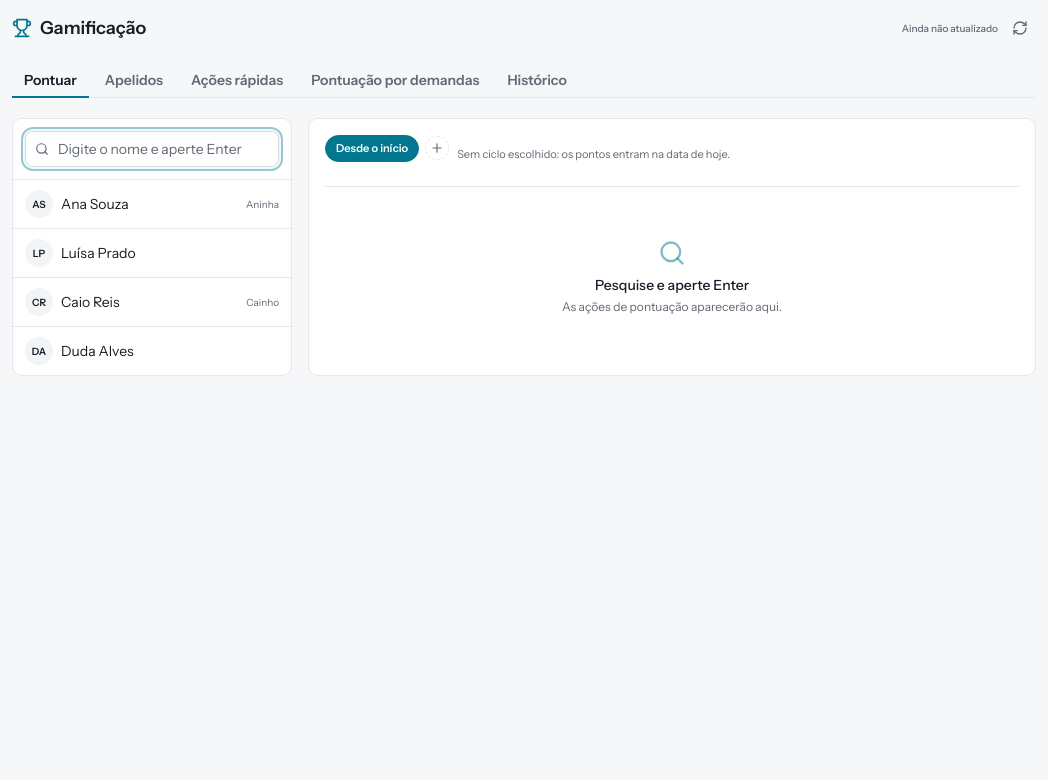
Test: aba de apelidos › clicar no nome abre o editor daquela pessoa
This screenshot has width=1048, height=780.
Click the button "Apelidos" at {"x": 134, "y": 81}, box x1=93 y1=64 x2=175 y2=98
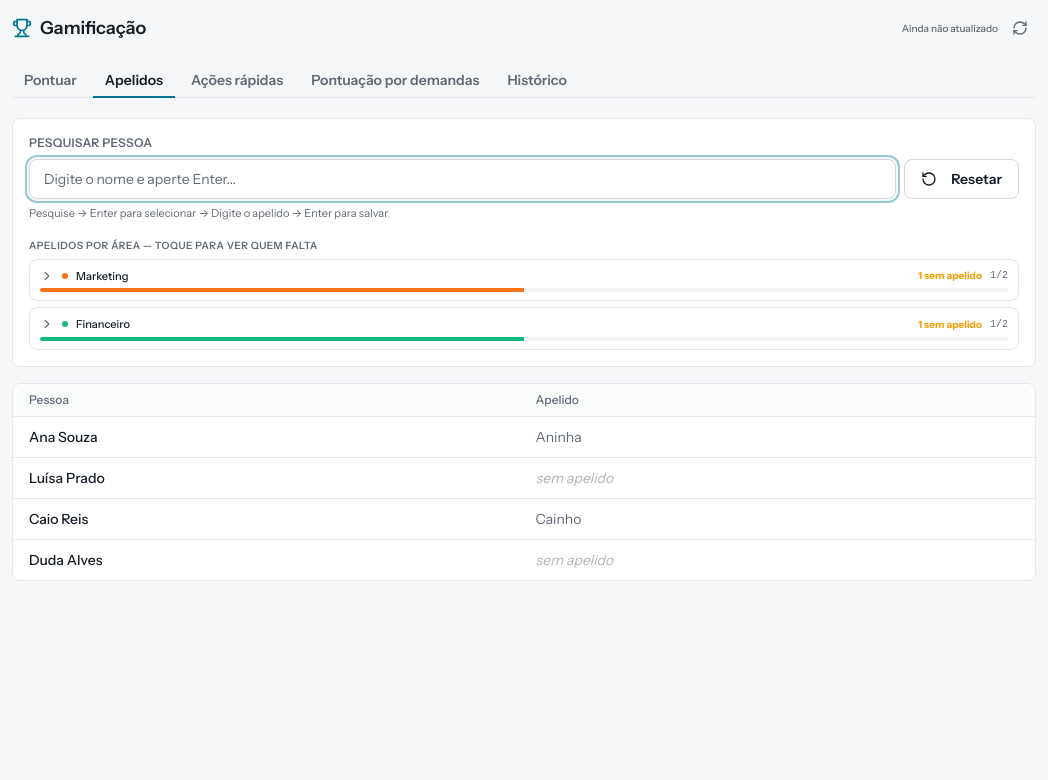
Click the button "Marketing 1 sem apelido 1/2" at {"x": 102, "y": 276}, box x1=30 y1=260 x2=1018 y2=300
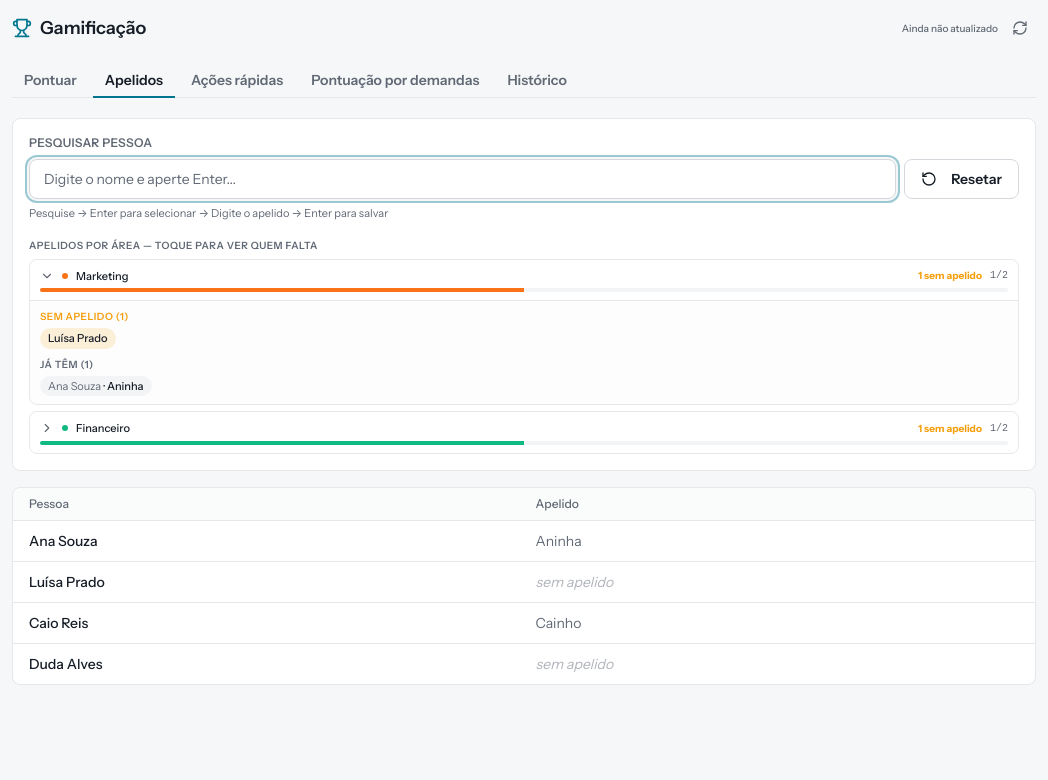
Click the button "Luísa Prado" at {"x": 78, "y": 338}, box x1=40 y1=328 x2=116 y2=348
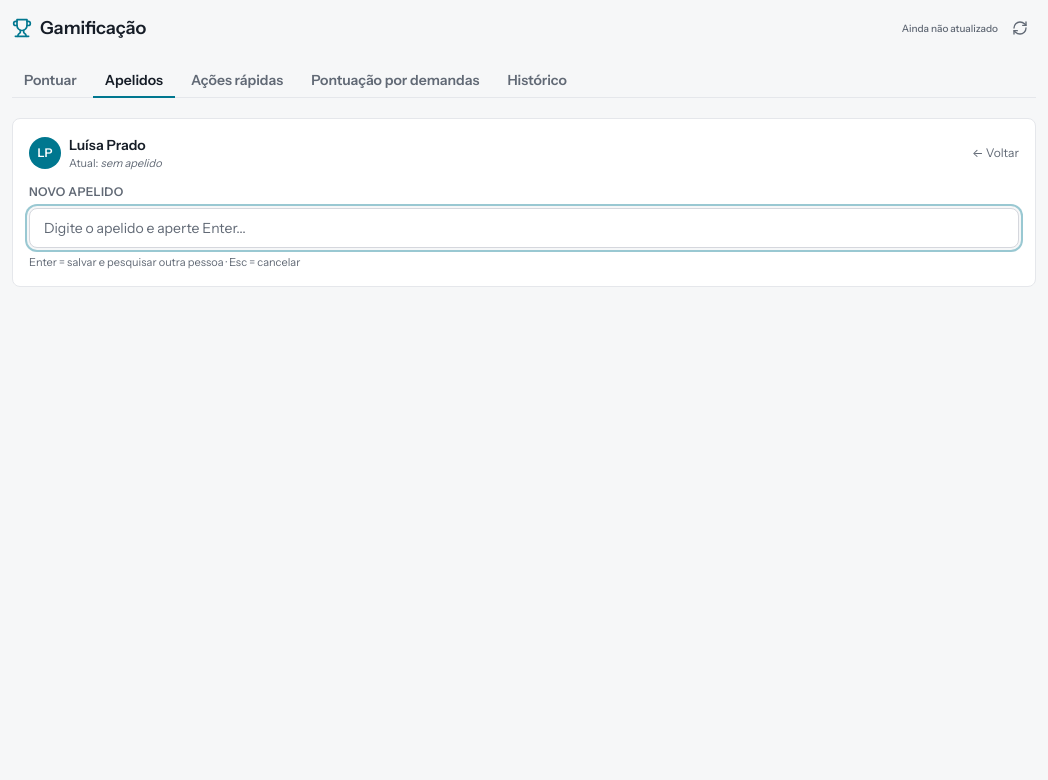
Check: the text "Luísa Prado" is shown, box x1=69 y1=136 x2=146 y2=154
Check: the text "Novo apelido" is shown, box x1=29 y1=184 x2=124 y2=198
